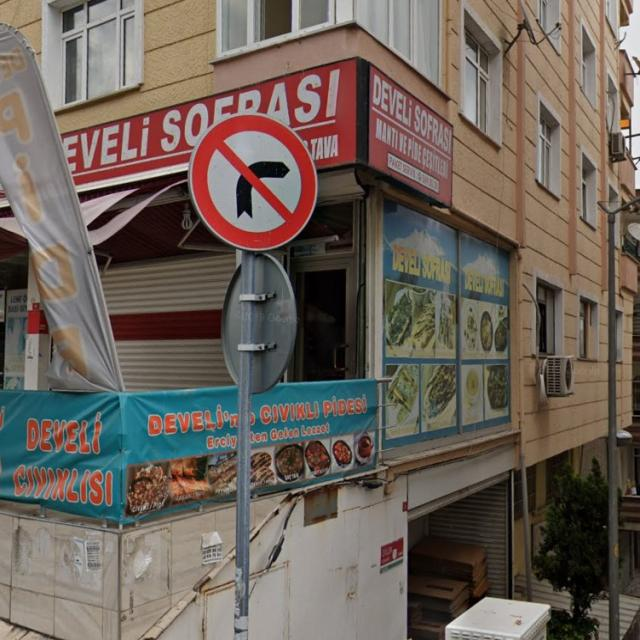sagadonulmez: (187, 114, 318, 249)
